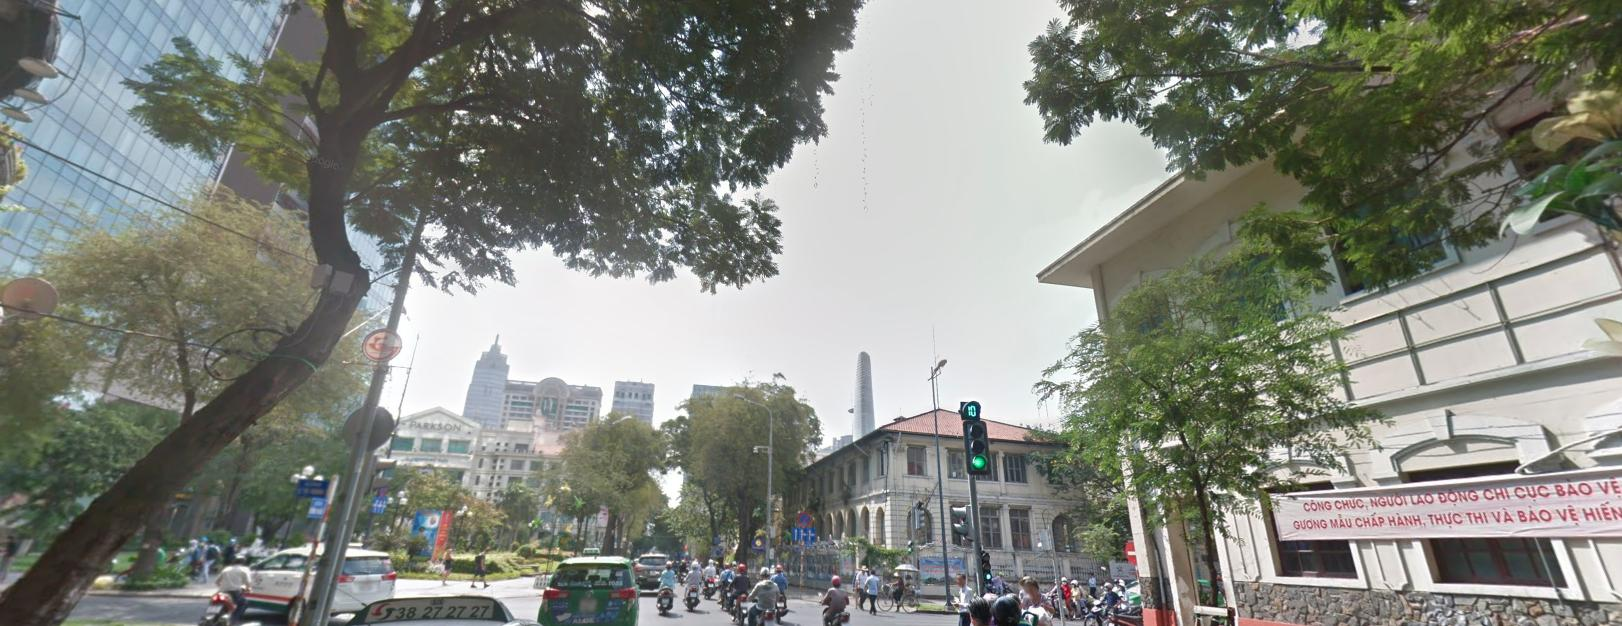Cam dung va do: (795, 510, 810, 524), (377, 478, 387, 495)
Cam nguoc chieu: (1124, 540, 1141, 565)
